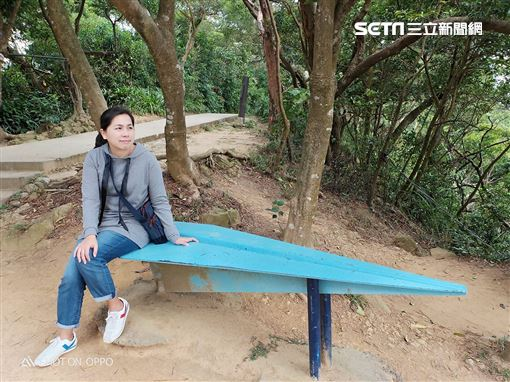people: (36, 107, 178, 361)
